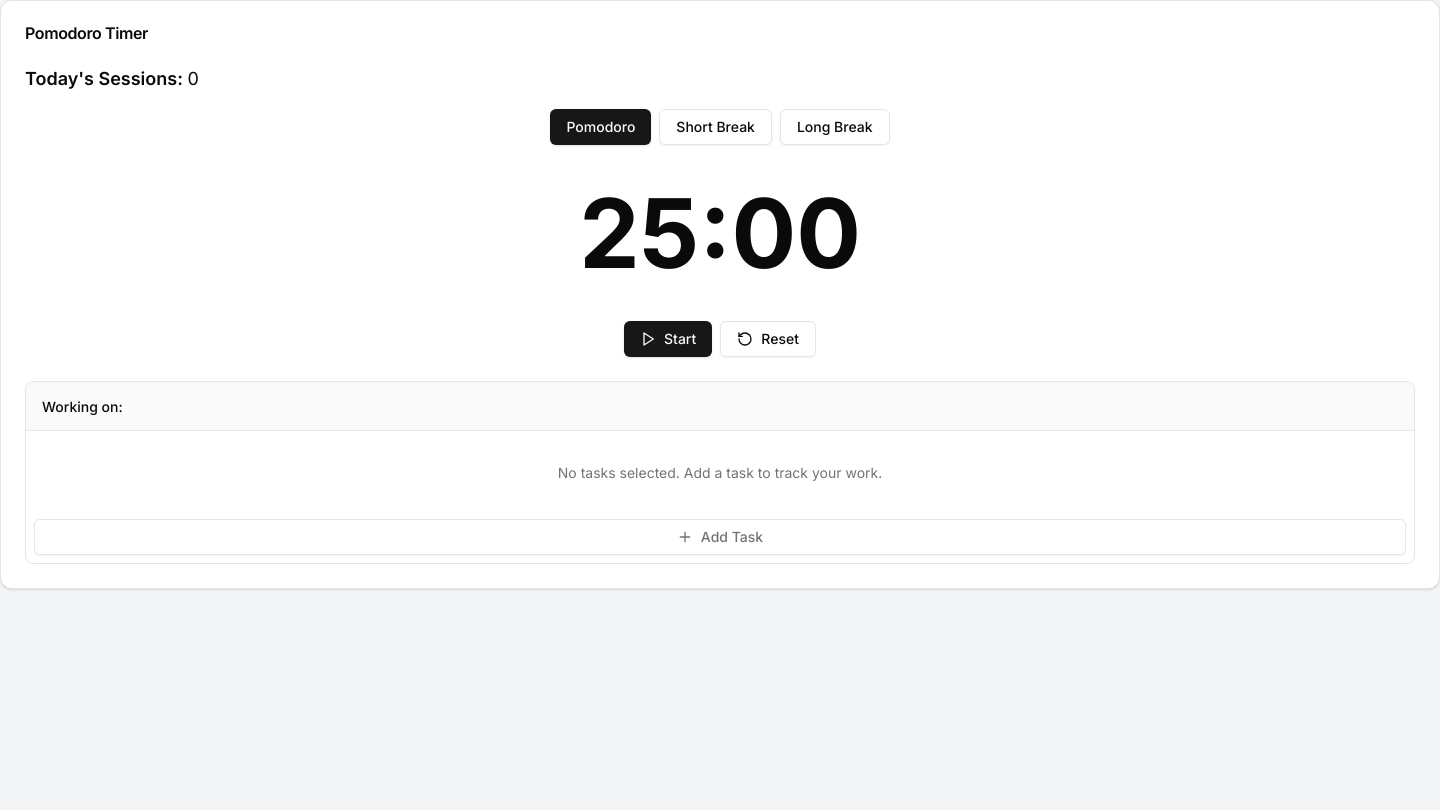
Test: PomodoroTimer › should reset timer
Click the button "Start" at (668, 339), box left=624, top=321, right=712, bottom=357
Wait 60000 ms
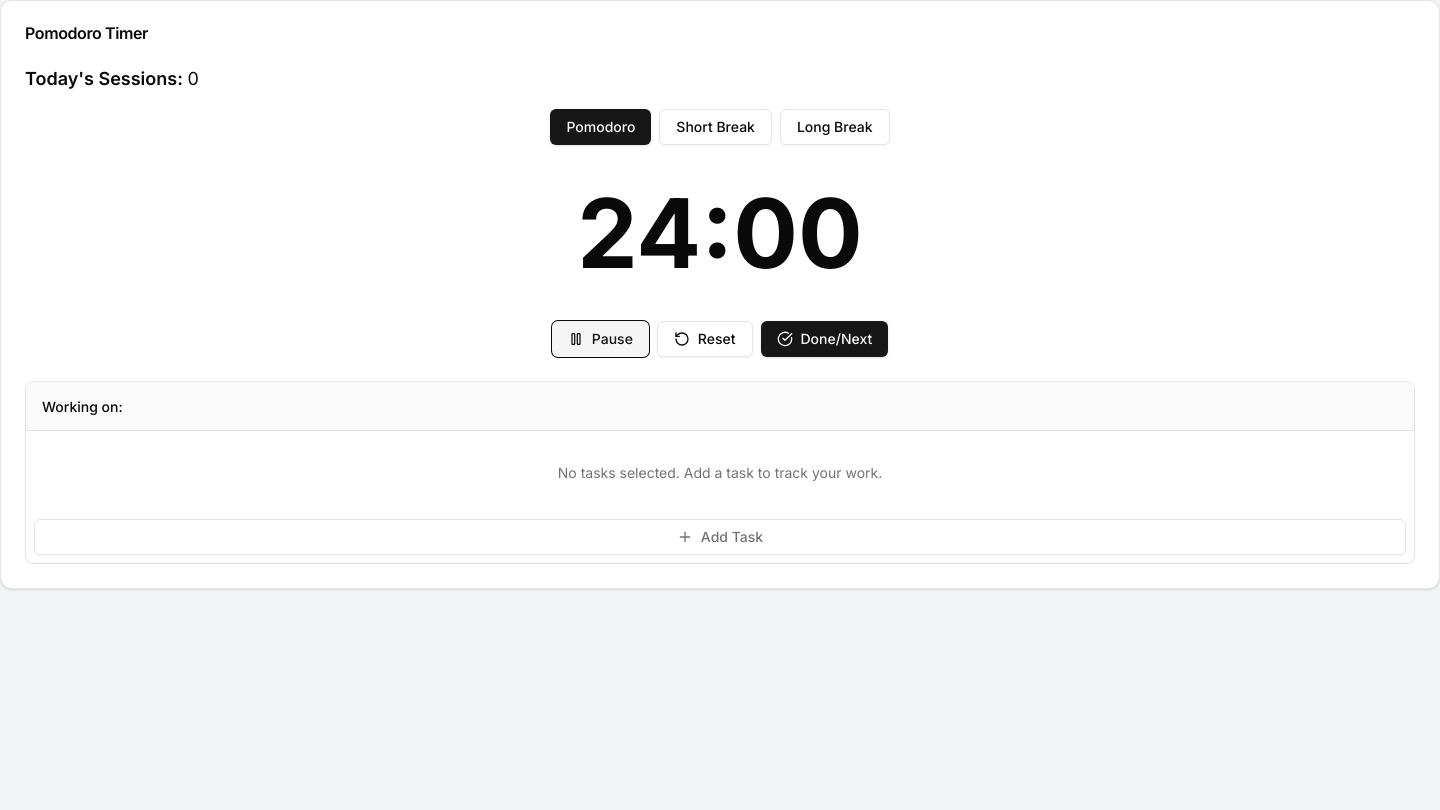
Click the button "Reset" at (705, 339), box left=657, top=321, right=752, bottom=357
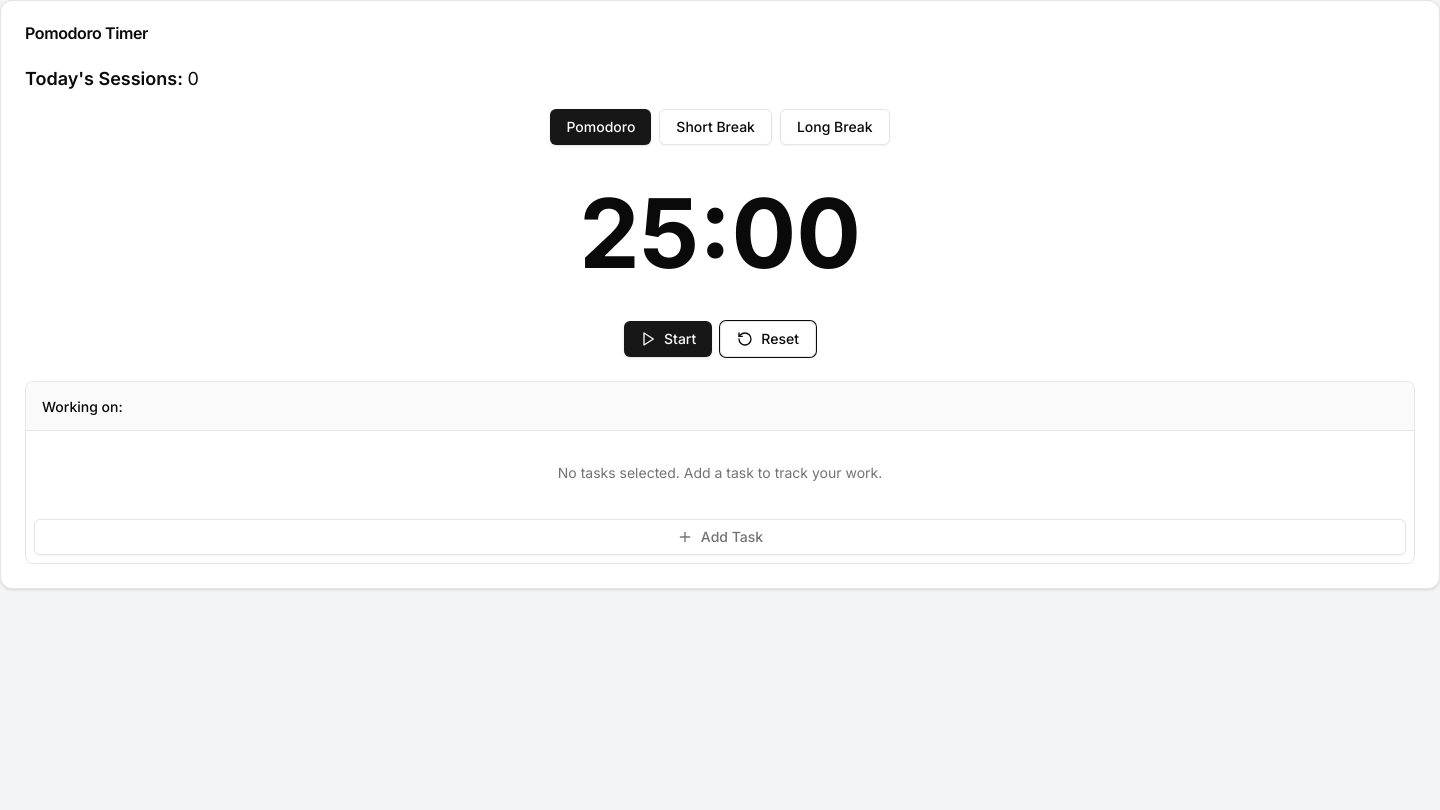
Now the text "25:00" is shown, box left=579, top=175, right=861, bottom=291
